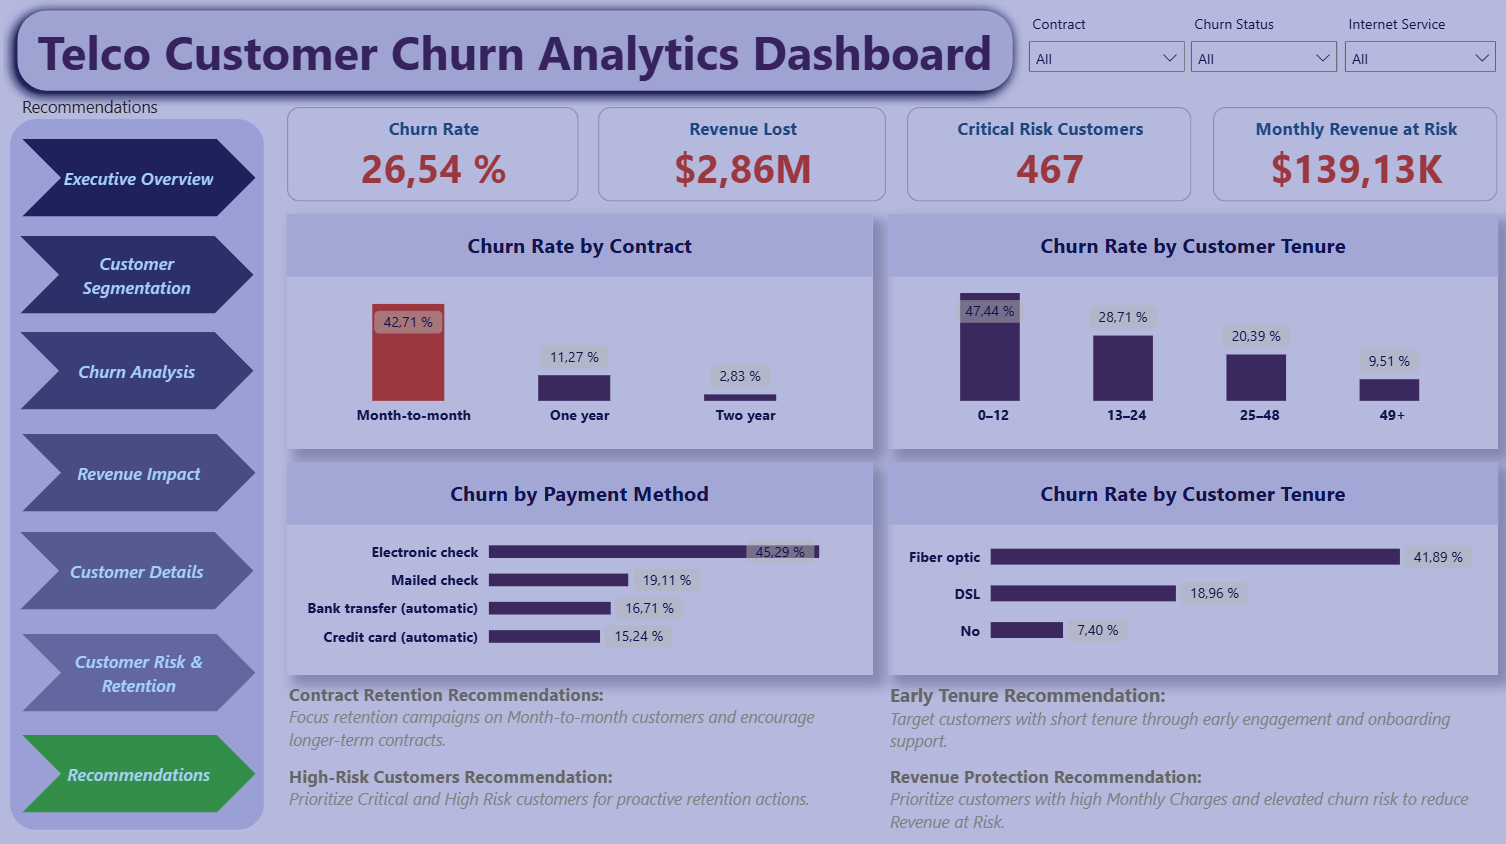

What the dashboard file says about the page in this screenshot:
{"tool":"powerbi","page":{"name":"Recommendations","canvas":[1280,720],"ordinal":6},"visuals":[{"type":"shape","title":"Telco Customer Churn Analytics Dashboard","box":[5.8,0,867.5,92.5],"z":0},{"type":"bookmarkNavigator","box":[585.5,46.3,14.5,4.3],"z":1000},{"type":"shape","box":[11.9,104.2,215.2,602.3],"z":1000,"group":"g2"},{"type":"donutChart","fields":{"Y":["_Measures.Monthly Revenue at Risk by Risk Segment"]},"box":[752.9,103.9,259.2,98.1],"z":2000},{"type":"shape","box":[20.2,203,197.9,65.7],"z":2000,"group":"g3"},{"type":"slicer","title":"Payment Method","fields":{"Values":["dim DimContract.Contract"]},"box":[869.5,15,141.6,61.7],"z":3000},{"type":"cardVisual","fields":{"Data":["_Measures.Revenue Lost"]},"box":[509.8,94,244.9,80.1],"z":4000},{"type":"group","id":"g1","title":"Group 1","box":[20.2,121.2,199.5,570.8],"z":4000,"group":"g2"},{"type":"shape","box":[20.2,284.7,197.9,65.7],"z":4000,"group":"g3"},{"type":"textbox","box":[22,83.9,169.9,20.2],"z":5000},{"type":"slicer","title":"Payment Method","fields":{"Values":["fact FactCustomerChurn.Churn Status"]},"box":[1007.4,15.4,134,61.6],"z":6000},{"type":"shape","box":[21.8,370.8,197.9,65.7],"z":6000,"group":"g3"},{"type":"slicer","title":"Payment Method","fields":{"Values":["dim DimService.InternetService"]},"box":[1137.8,15,138.5,61.7],"z":7000},{"type":"cardVisual","fields":{"Data":["_Measures.Churn Rate"]},"box":[246.5,94,248,80.1],"z":8000},{"type":"cardVisual","fields":{"Data":["_Measures.Critical Risk Customers"]},"box":[771.7,94,241.8,80.1],"z":9000},{"type":"cardVisual","fields":{"Data":["_Measures.Monthly Revenue at Risk"]},"box":[1030.5,94,241.8,80.1],"z":10000},{"type":"shape","box":[20.2,454,197.9,65.7],"z":10000,"group":"g3"},{"type":"clusteredColumnChart","title":"Churn Rate by Contract","fields":{"Category":["dim DimContract.Contract"],"Y":["_Measures.Churn Rate"]},"box":[246.1,184.6,495.8,199.3],"z":11000},{"type":"clusteredColumnChart","title":"Churn Rate by Customer Tenure","fields":{"Category":["dim DimCustomer.Tenure Group"],"Y":["_Measures.Churn Rate"]},"box":[755.7,184.6,517,199.3],"z":12000},{"type":"shape","box":[21.8,626.3,197.9,65.7],"z":12000,"group":"g3"},{"type":"clusteredBarChart","title":"Churn by Payment Method","fields":{"Category":["dim DimPayment.PaymentMethod"],"Y":["_Measures.Churn Rate"]},"box":[246.1,394.8,495.8,180],"z":13000},{"type":"clusteredBarChart","title":"Churn Rate by Customer Tenure","fields":{"Category":["dim DimService.InternetService"],"Y":["_Measures.Churn Rate"]},"box":[755.6,394.7,516.7,179.6],"z":14000},{"type":"textbox","box":[247.9,581.2,496.8,67.9],"z":15000},{"type":"textbox","box":[247.8,650.8,496.4,69.2],"z":16000},{"type":"textbox","box":[757.5,581.2,496.4,69.2],"z":17000},{"type":"textbox","box":[757.5,650.8,503.8,69.2],"z":18000},{"type":"group","id":"g2","title":"Group 3","box":[11.9,104.2,215.2,602.3],"z":19000},{"type":"shape","box":[21.8,540.2,197.9,65.7],"z":19000,"group":"g3"},{"type":"shape","box":[21.8,121.2,197.9,65.7],"z":19500,"group":"g3"},{"type":"group","id":"g3","title":"Group 2","box":[20.2,121.2,199.5,570.8],"z":20001,"group":"g1"}]}

Visuals, with their boxes in screenshot pixels (x1, y1, x2, y2), scaled from the page's 1280x720 canvas onto the 1506x844 screenshot:
"Telco Customer Churn Analytics Dashboard" shape: (7, 0, 1027, 108)
bookmarkNavigator: (689, 54, 706, 59)
shape: (14, 122, 267, 828)
donutChart - _Measures.Monthly Revenue at Risk by Risk Segment: (886, 122, 1191, 237)
shape: (24, 238, 257, 315)
"Payment Method" slicer: (1023, 18, 1190, 90)
cardVisual - _Measures.Revenue Lost: (600, 110, 888, 204)
"Group 1" group: (24, 142, 258, 811)
shape: (24, 334, 257, 411)
textbox: (26, 98, 226, 122)
"Payment Method" slicer: (1185, 18, 1343, 90)
shape: (26, 435, 258, 512)
"Payment Method" slicer: (1339, 18, 1502, 90)
cardVisual - _Measures.Churn Rate: (290, 110, 582, 204)
cardVisual - _Measures.Critical Risk Customers: (908, 110, 1192, 204)
cardVisual - _Measures.Monthly Revenue at Risk: (1212, 110, 1497, 204)
shape: (24, 532, 257, 609)
"Churn Rate by Contract" clusteredColumnChart: (290, 216, 873, 450)
"Churn Rate by Customer Tenure" clusteredColumnChart: (889, 216, 1497, 450)
shape: (26, 734, 258, 811)
"Churn by Payment Method" clusteredBarChart: (290, 463, 873, 674)
"Churn Rate by Customer Tenure" clusteredBarChart: (889, 463, 1497, 673)
textbox: (292, 681, 876, 761)
textbox: (292, 763, 876, 843)
textbox: (891, 681, 1475, 762)
textbox: (891, 763, 1484, 843)
"Group 3" group: (14, 122, 267, 828)
shape: (26, 633, 258, 710)
shape: (26, 142, 258, 219)
"Group 2" group: (24, 142, 258, 811)
